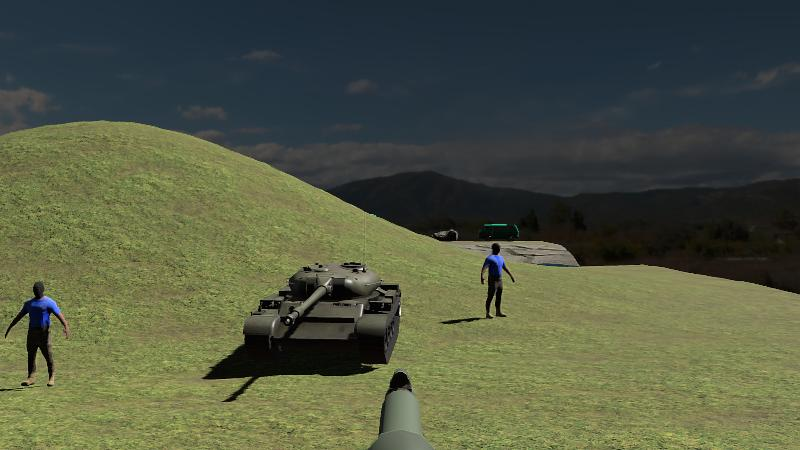Human: (5, 280, 69, 388), (481, 243, 515, 318)
Tank: (243, 260, 403, 369)
